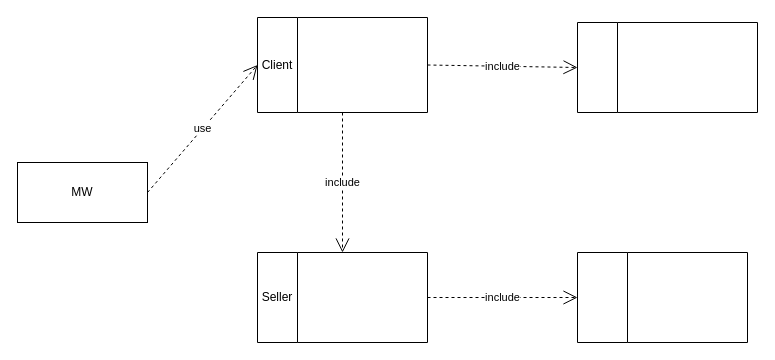
The diagram is 775 pixels wide and 360 high, and some of its shapes have lost their labels. Here are the shapes that lost their labels. From the top down, the centre of each, then its label:
At (667,67): "DB".
At (662,297): "Dealer".
